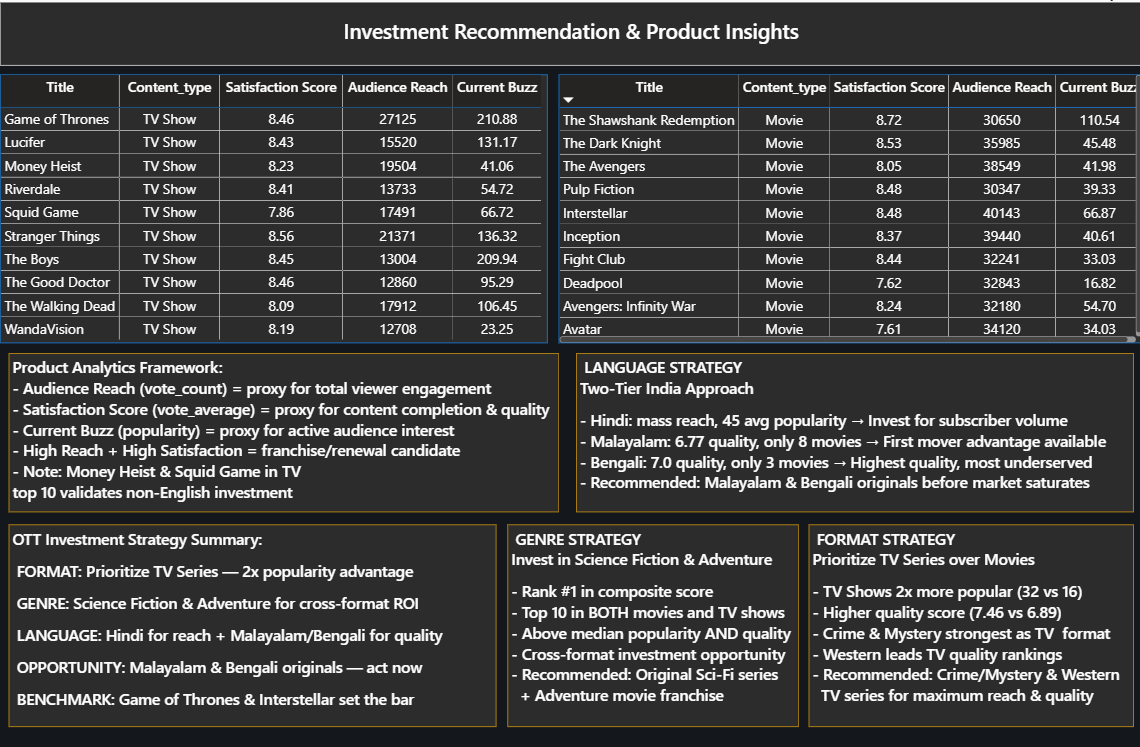

What the dashboard file says about the page in this screenshot:
{"tool":"powerbi","page":{"name":"Investment Recommendation & Product Insights","canvas":[1766,1153],"ordinal":3},"visuals":[{"type":"textbox","box":[0,0,1765.8,98.5],"z":0},{"type":"textbox","box":[784.4,807.6,450.2,313],"z":1000},{"type":"textbox","box":[890.6,542.9,861.7,245.4],"z":2000},{"type":"textbox","box":[1250,807.6,502.3,313],"z":3000},{"type":"tableEx","fields":{"Values":["tmdb_movies_final.title","tmdb_movies_final.content_type","tmdb_movies_final.vote_average","tmdb_movies_final.vote_count","tmdb_movies_final.popularity"]},"box":[863.6,112.1,902.2,415.4],"z":4000},{"type":"tableEx","fields":{"Values":["tmdb_tvshows_final.title","tmdb_tvshows_final.content_type","tmdb_tvshows_final.vote_average","tmdb_tvshows_final.vote_count","tmdb_tvshows_final.popularity"]},"box":[0,112.1,846.2,415.4],"z":5000},{"type":"textbox","box":[13.5,542.9,850.1,245.4],"z":6000},{"type":"textbox","box":[13.5,807.6,753.5,313],"z":7000}]}

Visuals, with their boxes in screenshot pixels (x1, y1, x2, y2), scaled from the page's 1766x1153 canvas onto the 1140x747 screenshot:
textbox: crop(0, 0, 1139, 64)
textbox: crop(506, 523, 797, 726)
textbox: crop(575, 352, 1131, 511)
textbox: crop(807, 523, 1131, 726)
tableEx - tmdb_movies_final.title x tmdb_movies_final.content_type: crop(557, 73, 1139, 342)
tableEx - tmdb_tvshows_final.title x tmdb_tvshows_final.content_type: crop(0, 73, 546, 342)
textbox: crop(9, 352, 557, 511)
textbox: crop(9, 523, 495, 726)
